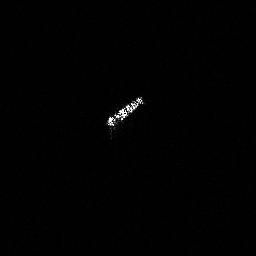ship: (104, 94, 146, 134)
